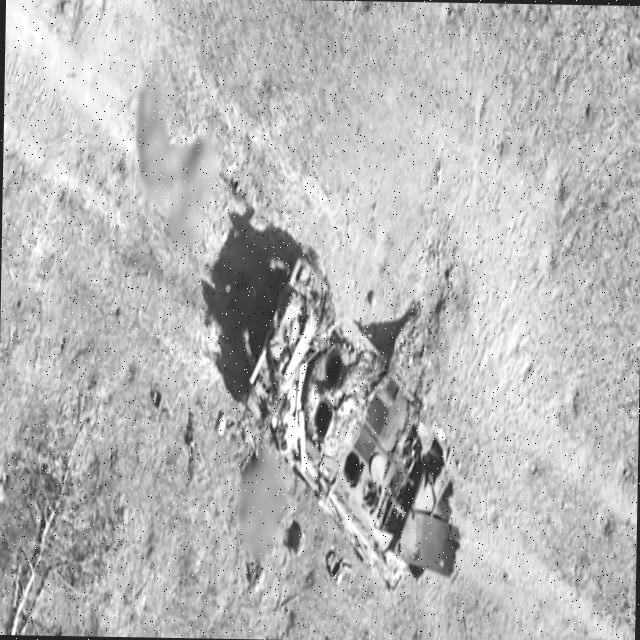AIFV: (233, 247, 496, 592)
